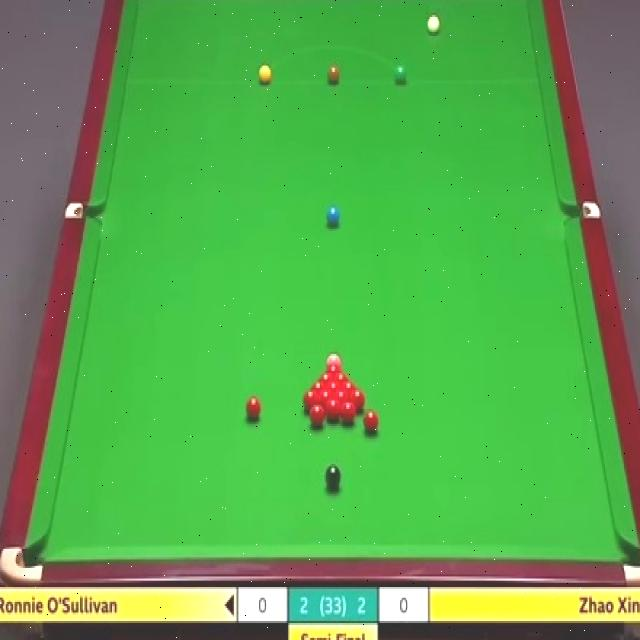black-ball: (324, 461, 341, 491)
blue-ball: (328, 206, 340, 229)
brown-ball: (328, 66, 340, 85)
green-ball: (394, 64, 406, 85)
pink-ball: (326, 348, 342, 367)
red-ball: (244, 397, 264, 423), (308, 404, 325, 430), (364, 408, 379, 437), (325, 397, 341, 423), (348, 389, 366, 410), (341, 402, 358, 424), (303, 389, 319, 411), (317, 388, 334, 405), (334, 391, 348, 408), (332, 372, 351, 383), (341, 381, 358, 392), (324, 363, 342, 372), (326, 382, 342, 392), (311, 382, 325, 393), (316, 373, 332, 382)
white-ball: (426, 13, 441, 37)
yellow-ball: (258, 62, 273, 85)
